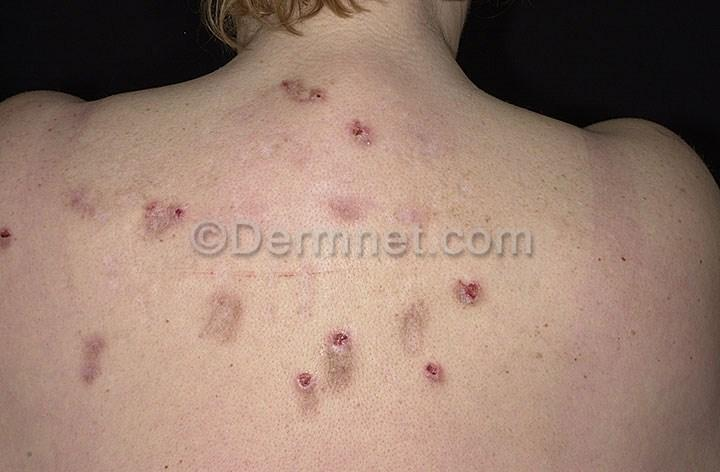Eczema: (59, 309, 139, 397), (308, 317, 379, 399), (189, 281, 261, 351), (125, 186, 200, 243), (264, 72, 344, 116), (389, 296, 448, 348), (310, 182, 377, 226), (443, 275, 506, 313), (406, 352, 464, 388), (61, 182, 113, 221), (284, 360, 329, 405), (340, 111, 384, 152), (389, 197, 446, 224), (0, 215, 30, 257)
